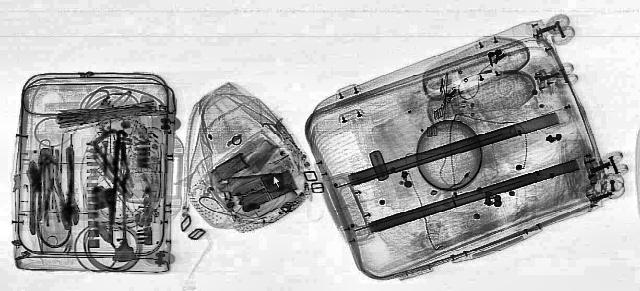Wrench: (58, 146, 82, 230)
